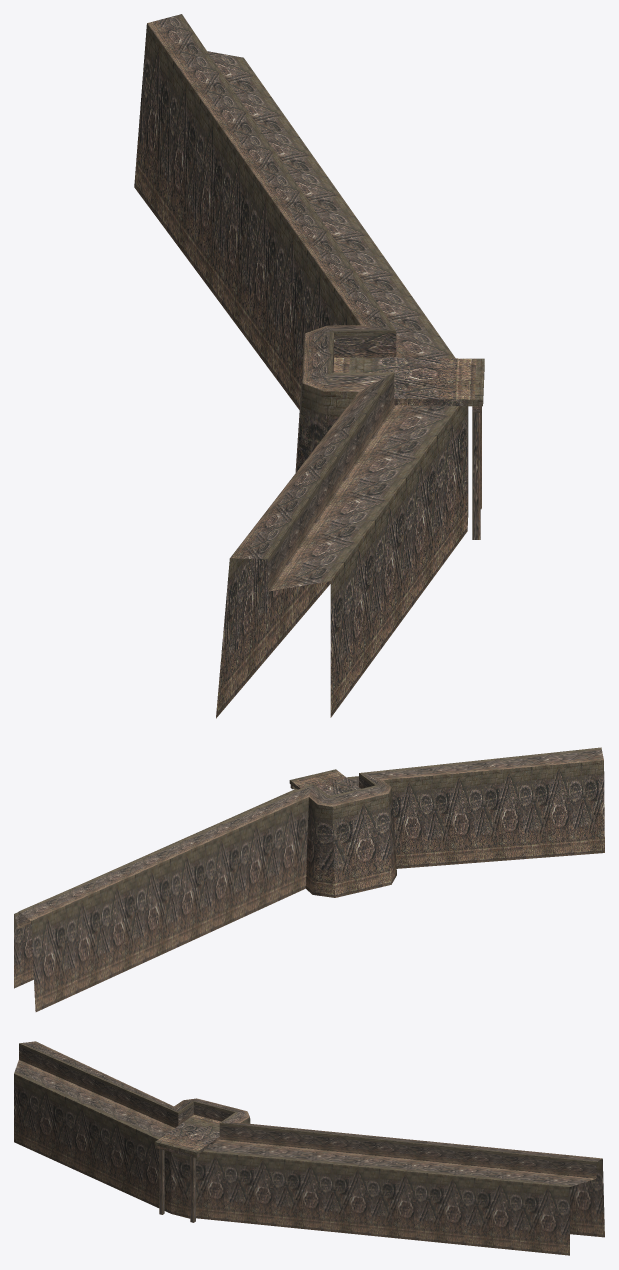
The picture shows the model from 3 angles, top to bottom: view 1: azimuth 30°, elevation 25°; view 2: azimuth 150°, elevation 25°; view 3: azimuth 270°, elevation 25°; orthographic projection. The views are drawn at different scales.
Visible parts, largest first — view 1: hr_wl1-col; view 2: hr_wl1-col; view 3: hr_wl1-col.
Part boxes in pixels (x1,y1,x2,y2): hr_wl1-col: (134, 14, 484, 718); hr_wl1-col: (14, 747, 604, 1011); hr_wl1-col: (14, 1041, 604, 1255).
Bounding box in the file's own units: 23.88 × 7.04 × 43.96.
Materials: 1 (1 with a texture image).
